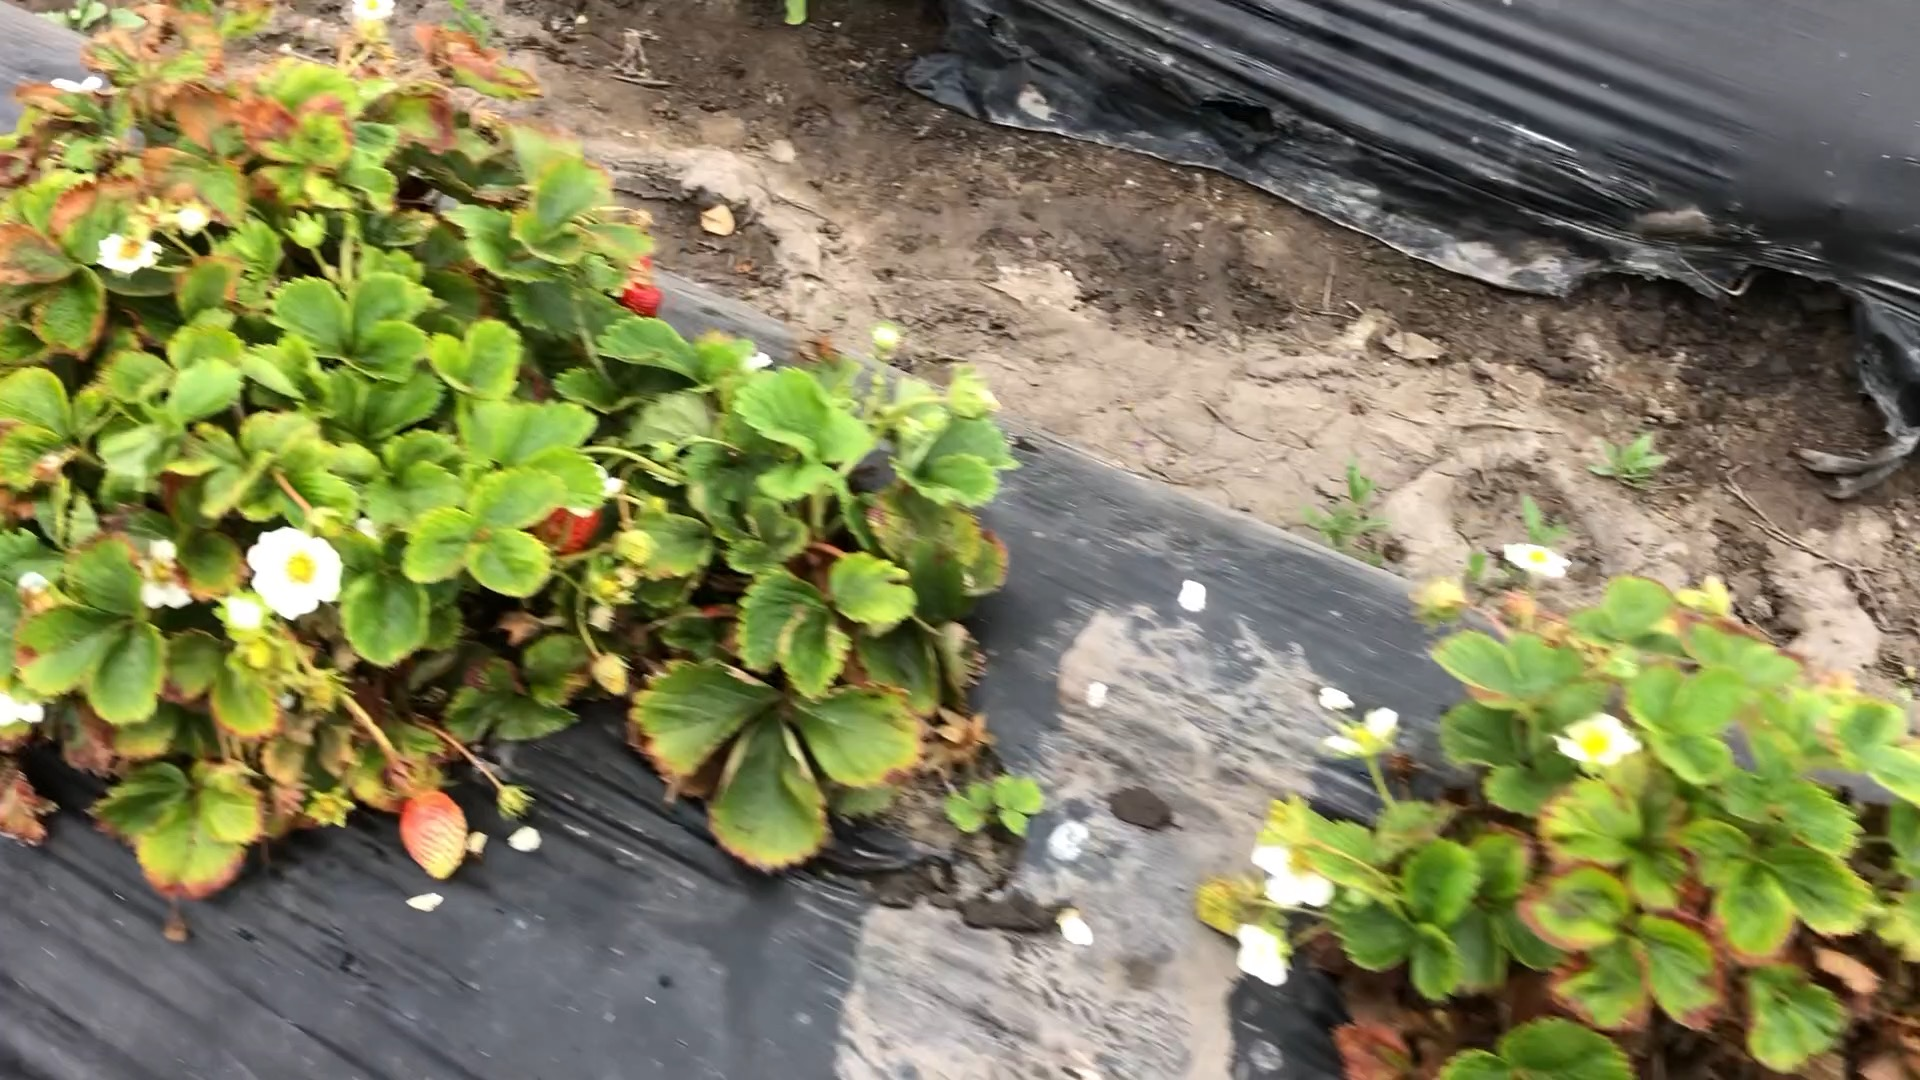ripe_strawberry: (541, 502, 608, 554), (620, 281, 666, 322)
unripe_strawberry: (398, 783, 473, 884)
